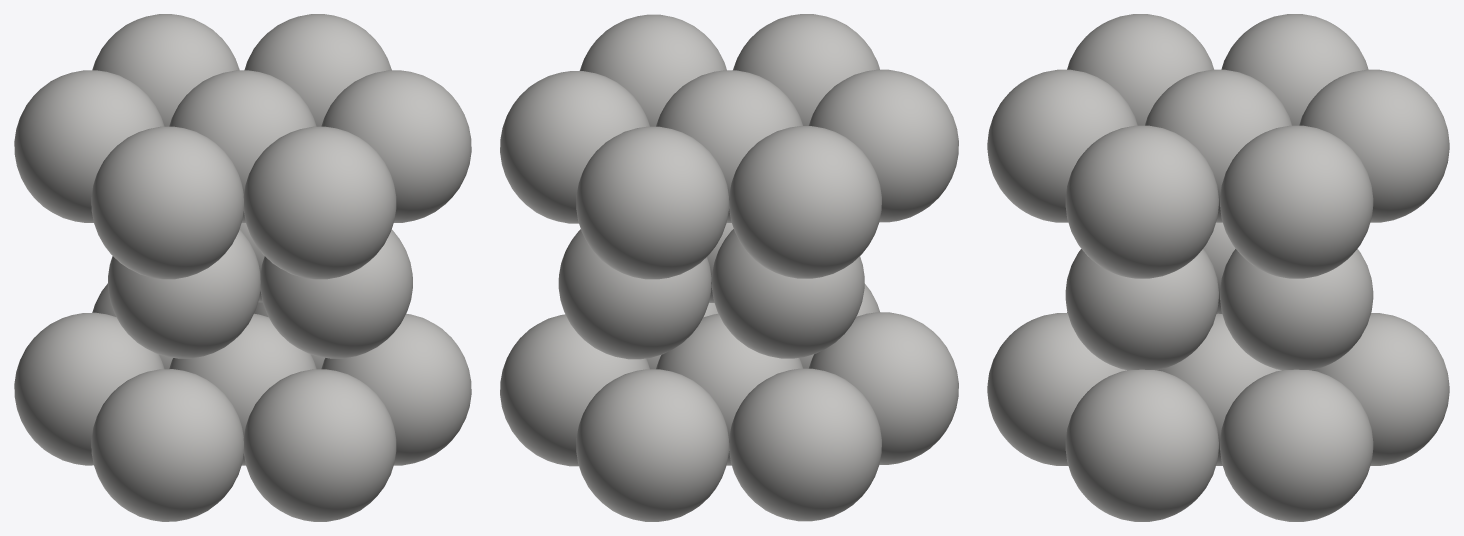
Rendered from liufang5_1.FBX.
3 renders of one model, left to right at view 1: azimuth 30°, elevation 25°; view 2: azimuth 150°, elevation 25°; view 3: azimuth 270°, elevation 25°, orthographic.
Visible parts, largest first — view 1: 对象446; view 2: 对象446; view 3: 对象446.
Part boxes in pixels (x1=…): 对象446: x1=14, y1=14, x2=471, y2=521; 对象446: x1=500, y1=14, x2=958, y2=521; 对象446: x1=987, y1=14, x2=1449, y2=521.
Bounding box in the file's own units: 109 × 110 × 120.
1 material, 1 textured.
